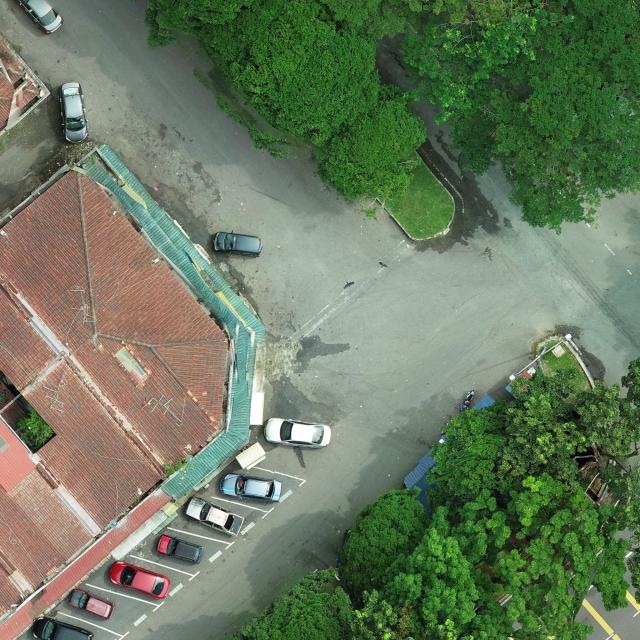tree: (448, 0, 640, 237), (379, 471, 629, 640), (194, 0, 381, 147), (496, 354, 640, 527), (398, 0, 578, 122), (308, 82, 427, 218), (425, 395, 535, 503), (336, 485, 431, 605), (226, 562, 360, 640), (16, 409, 54, 444)
